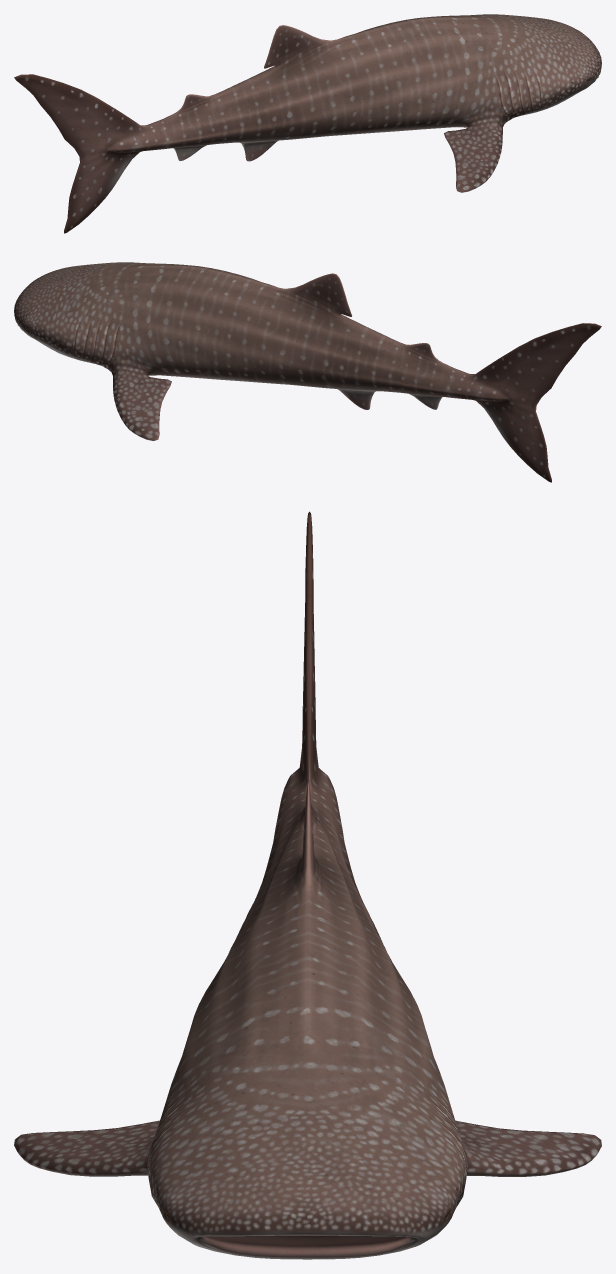
Rendered from WhaleShark.glb.
3 views of the same model, one above another, from view 1: azimuth 30°, elevation 25°; view 2: azimuth 150°, elevation 25°; view 3: azimuth 270°, elevation 25° (orthographic). The views are drawn at different scales.
Parts seen in each view (by area): view 1: Body; view 2: Body; view 3: Body.
Part boxes in pixels (x1,y1,x2,y2): Body: (14, 14, 601, 233); Body: (14, 262, 601, 482); Body: (14, 511, 601, 1259).
Size of the model in its own units: 10.2 by 2.89 by 4.77.
Materials: 1 (1 with a texture image).
